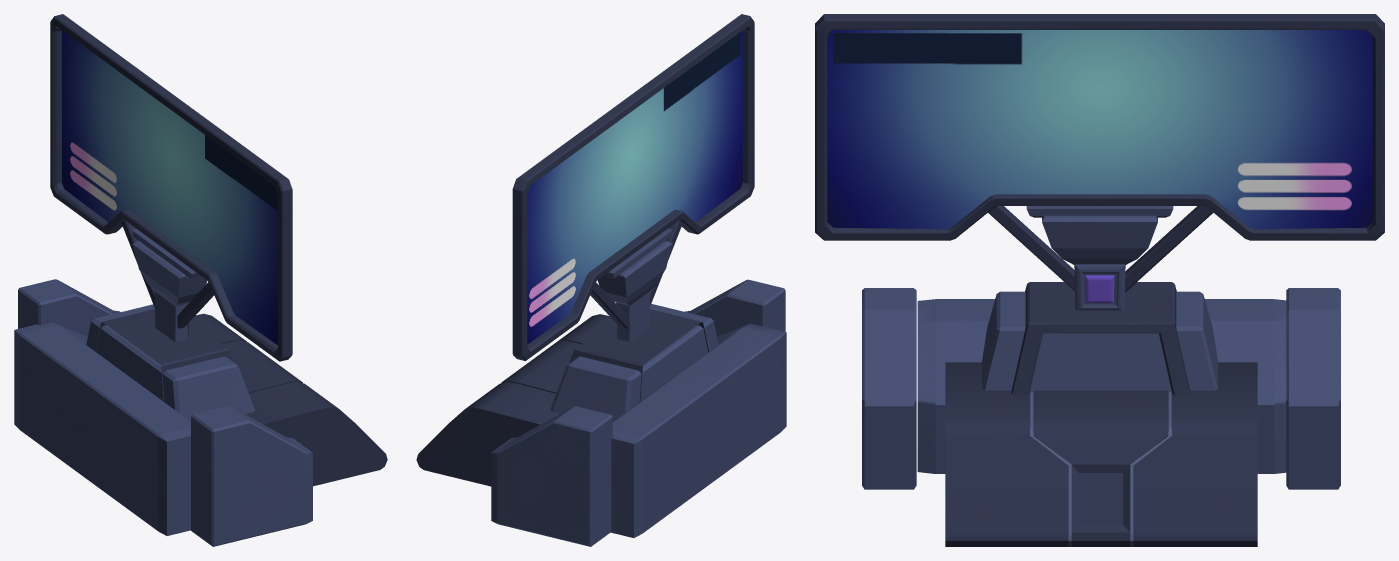
Rendered from elementboard.fbx.
3 views of the same model, side by side, from view 1: azimuth 30°, elevation 25°; view 2: azimuth 150°, elevation 25°; view 3: azimuth 270°, elevation 25° (orthographic). The views are drawn at different scales.
Parts seen in each view (by area): view 1: monitor2:monitor2:polySurface25, monitor2:monitor2:polySurface21, monitor2:monitor2:polySurface28, monitor2:monitor2:polySurface19, monitor2:monitor2:polySurface15, monitor2:monitor2:polySurface26, monitor2:monitor2:polySurface24, monitor2:monitor2:polySurface27, monitor2:monitor2:polySurface17, monitor2:monitor2:polySurface16, monitor2:monitor2:polySurface23, monitor2:monitor2:polySurface18; view 2: monitor2:monitor2:polySurface25, monitor2:monitor2:polySurface21, monitor2:monitor2:polySurface27, monitor2:monitor2:polySurface19, monitor2:monitor2:polySurface15, monitor2:monitor2:polySurface26, monitor2:monitor2:polySurface24, monitor2:monitor2:polySurface28, monitor2:monitor2:polySurface17, monitor2:monitor2:polySurface16, monitor2:monitor2:polySurface23, monitor2:monitor2:polySurface20; view 3: monitor2:monitor2:polySurface25, monitor2:monitor2:polySurface15, monitor2:monitor2:polySurface19, monitor2:monitor2:polySurface21, monitor2:monitor2:polySurface26, monitor2:monitor2:polySurface27, monitor2:monitor2:polySurface28, monitor2:monitor2:polySurface24, monitor2:monitor2:polySurface17, monitor2:monitor2:polySurface20, monitor2:monitor2:polySurface18, monitor2:monitor2:polySurface16 (+2 smaller).
Boxes of the visible parts, x1,y1,x2,y2 form: monitor2:monitor2:polySurface25: (62,30,277,344); monitor2:monitor2:polySurface21: (14,322,190,535); monitor2:monitor2:polySurface28: (191,406,312,546); monitor2:monitor2:polySurface19: (50,14,292,361); monitor2:monitor2:polySurface15: (191,313,387,486); monitor2:monitor2:polySurface26: (86,304,254,417); monitor2:monitor2:polySurface24: (95,309,234,402); monitor2:monitor2:polySurface27: (18,279,120,336); monitor2:monitor2:polySurface17: (132,241,207,306); monitor2:monitor2:polySurface16: (154,291,188,342); monitor2:monitor2:polySurface23: (132,229,201,278); monitor2:monitor2:polySurface18: (177,282,213,328); monitor2:monitor2:polySurface25: (527,30,742,344); monitor2:monitor2:polySurface21: (611,323,786,537); monitor2:monitor2:polySurface27: (491,406,612,546); monitor2:monitor2:polySurface19: (512,14,754,360); monitor2:monitor2:polySurface15: (416,314,613,486); monitor2:monitor2:polySurface26: (550,304,718,416); monitor2:monitor2:polySurface24: (569,309,708,401); monitor2:monitor2:polySurface28: (684,279,785,336); monitor2:monitor2:polySurface17: (597,241,672,305); monitor2:monitor2:polySurface16: (616,291,650,341); monitor2:monitor2:polySurface23: (604,228,672,278); monitor2:monitor2:polySurface20: (590,282,627,329); monitor2:monitor2:polySurface25: (827,30,1372,228); monitor2:monitor2:polySurface15: (945,362,1257,546); monitor2:monitor2:polySurface19: (815,14,1384,240); monitor2:monitor2:polySurface21: (917,299,1286,473); monitor2:monitor2:polySurface26: (981,291,1218,392); monitor2:monitor2:polySurface27: (1286,288,1340,489); monitor2:monitor2:polySurface28: (862,288,916,489); monitor2:monitor2:polySurface24: (1011,282,1190,395); monitor2:monitor2:polySurface17: (1042,215,1157,264); monitor2:monitor2:polySurface20: (1125,206,1213,292); monitor2:monitor2:polySurface18: (988,206,1074,291); monitor2:monitor2:polySurface16: (1074,264,1125,310).
Size of the model in its own units: 38.76 by 58.1 by 66.84.
